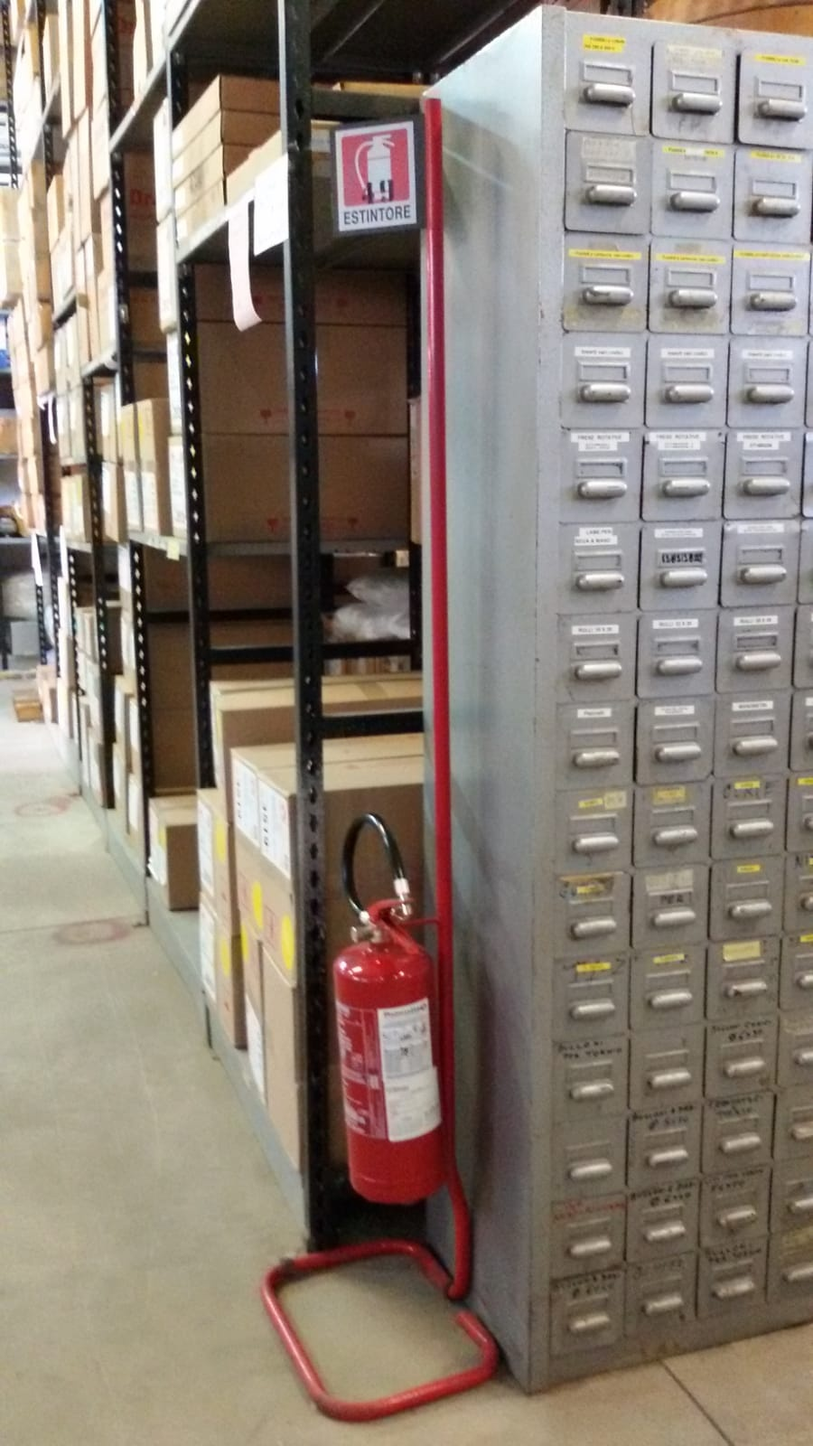fire_extinguisher: (330, 811, 447, 1207)
